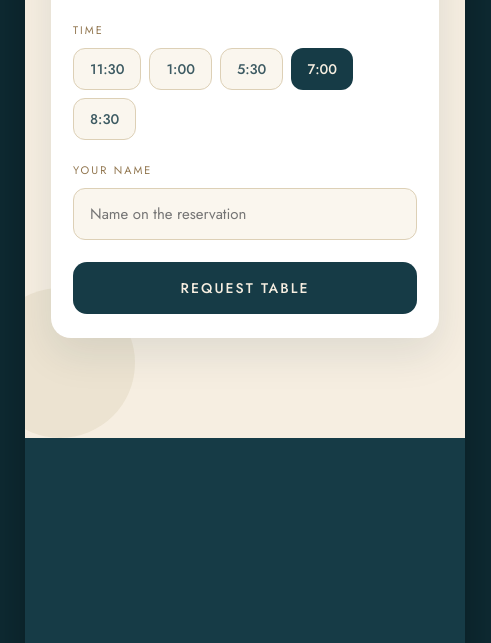
Test: App (smoke) › submits a reservation request and shows confirmation
The image size is (491, 643).
(page scrolled)
Step 1. Click the button "REQUEST TABLE" → (245, 288), box top-left (73, 262), bottom-right (417, 314)
(page scrolled)
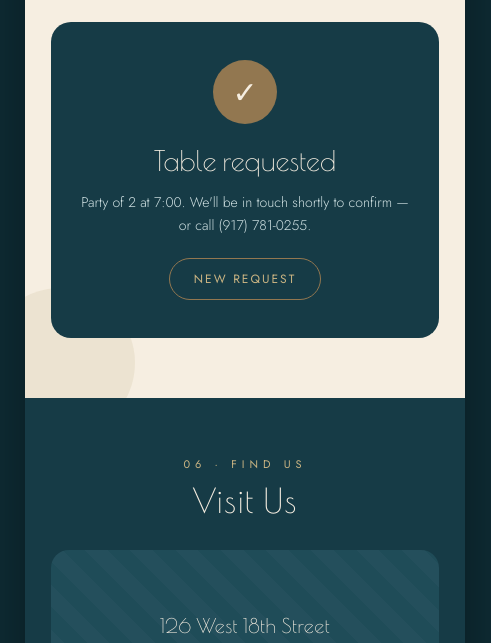
expect the text "Table requested" is shown: met, box top-left (154, 144), bottom-right (336, 177)
expect the text "Party of 2 at 7:00" is shown: met, box top-left (81, 192), bottom-right (409, 235)
